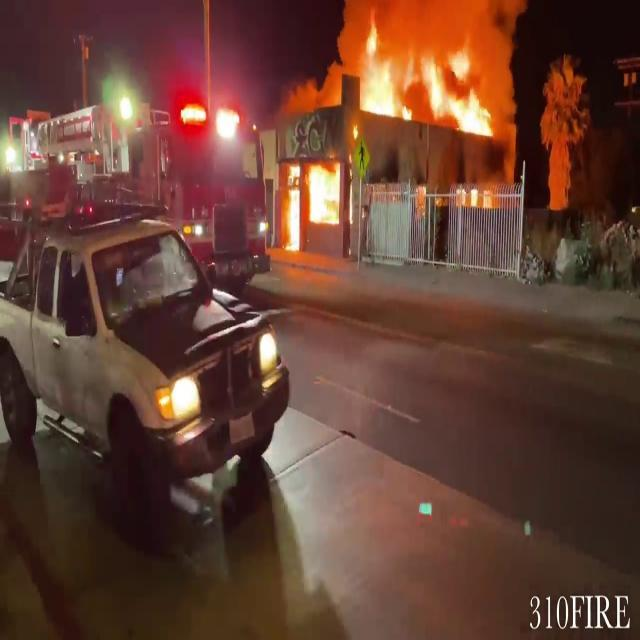Fire: (350, 30, 498, 138), (280, 159, 344, 248)
